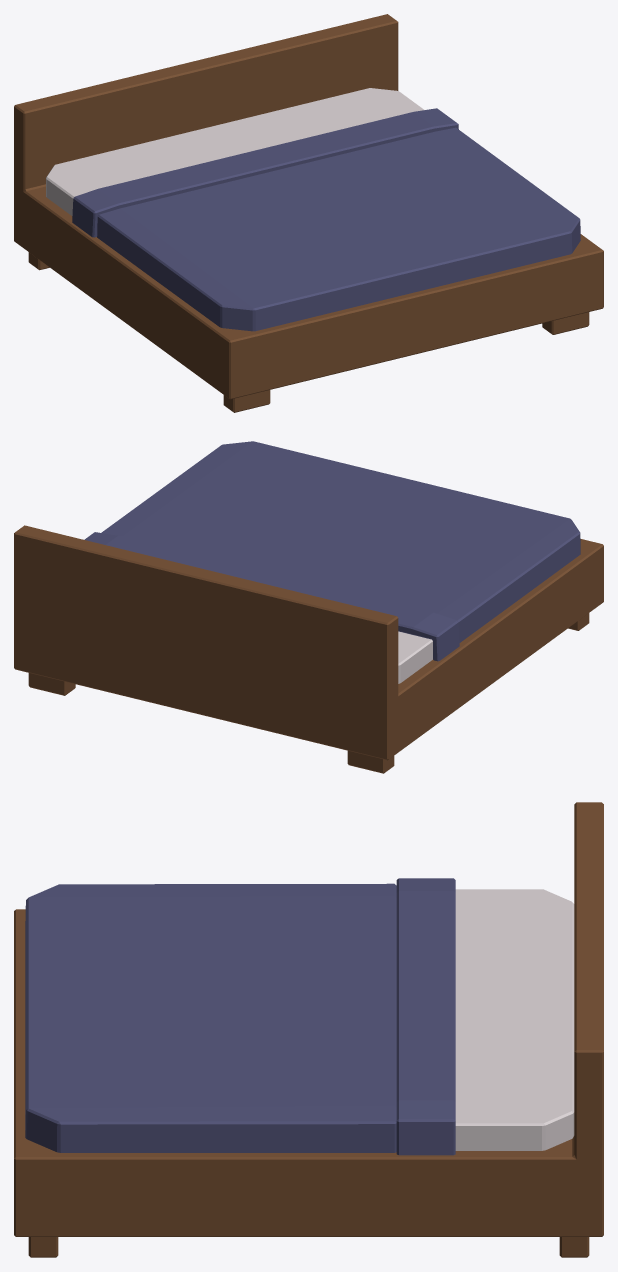
The model's file is tmp_doublebed.fbx.
3 views of the same model, one above another, from view 1: azimuth 30°, elevation 25°; view 2: azimuth 150°, elevation 25°; view 3: azimuth 270°, elevation 25° (orthographic). The views are drawn at different scales.
Visible parts, largest first — view 1: doublebed; view 2: doublebed; view 3: doublebed.
Part boxes in pixels (box(x1,y1,x2,y2)): doublebed: box(14, 14, 603, 412); doublebed: box(14, 441, 603, 773); doublebed: box(14, 802, 603, 1257).
Size of the model in its own units: 200 by 80 by 200.
